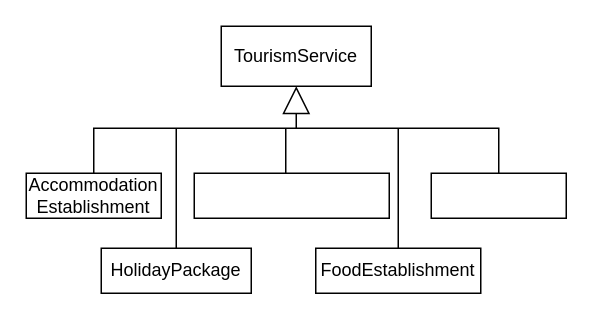
This 593x320 diagram has some shape labels left out. The shapes that lost their labels are listed below. From the top down, each one's centre as x and y in pixels, then its label:
At point (291, 195): "DestinationExperience".
At point (498, 195): "Tour".
